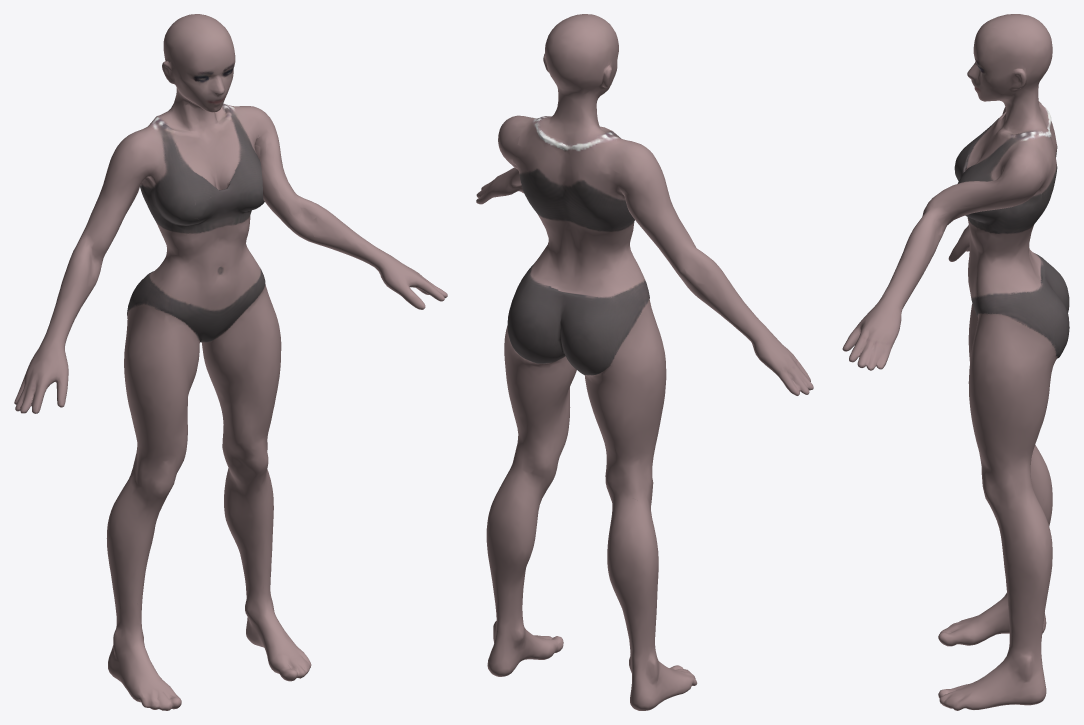
The model's file is 18-UpperArmR-60-child60-twist0-baseline.glb.
The picture shows the model from 3 angles, left to right: view 1: azimuth 30°, elevation 25°; view 2: azimuth 150°, elevation 25°; view 3: azimuth 270°, elevation 25°; orthographic projection. The views are drawn at different scales.
Parts seen in each view (by area): view 1: baseline; view 2: baseline; view 3: baseline.
Boxes of the visible parts, x1,y1,x2,y2 form: baseline: [14, 14, 447, 710]; baseline: [476, 14, 813, 710]; baseline: [842, 14, 1069, 710].
Size of the model in its own units: 0.6038 by 1 by 0.3145.
Materials: 1 (1 with a texture image).
